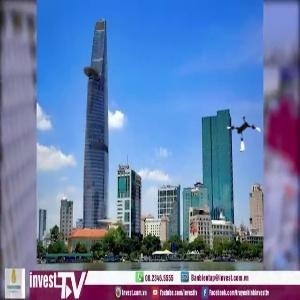drone: (225, 115, 264, 154)
